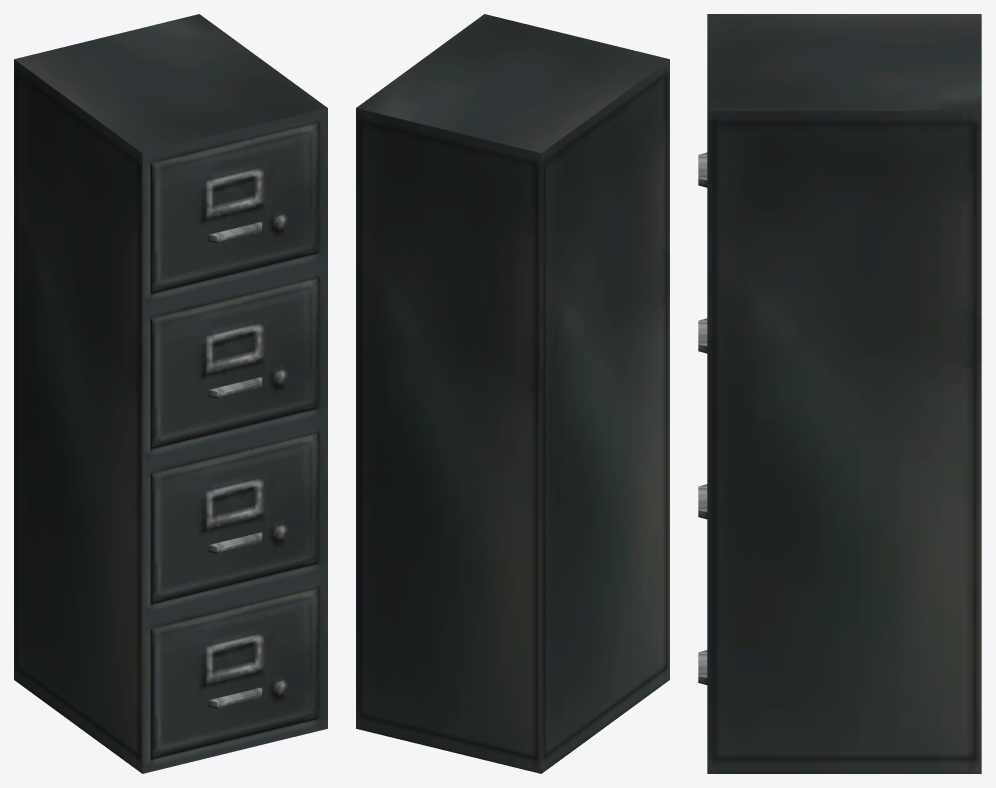
The model's file is filingcabinet.fbx.
3 views of the same model, side by side, from view 1: azimuth 30°, elevation 25°; view 2: azimuth 150°, elevation 25°; view 3: azimuth 270°, elevation 25° (orthographic). The views are drawn at different scales.
Parts seen in each view (by area): view 1: mesh_0; view 2: mesh_0; view 3: mesh_0.
Boxes of the visible parts, left/top/right/bottom form: mesh_0: left=14, top=14, right=327, bottom=773; mesh_0: left=356, top=14, right=669, bottom=773; mesh_0: left=698, top=14, right=981, bottom=773.
Bounding box in the file's own units: 50 × 160 × 62.
Materials: 1 (1 with a texture image).
